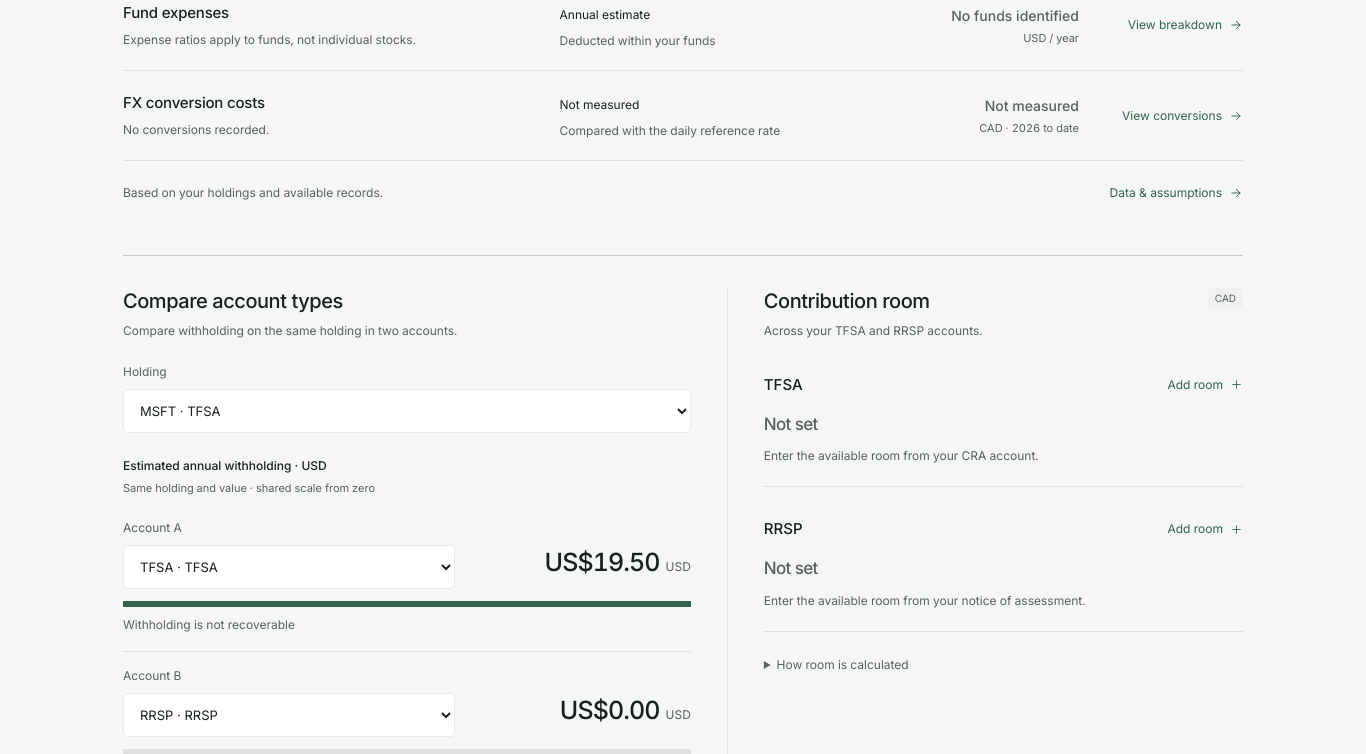
Test: Contribution editing › opens only one contribution editor at a time
The image size is (1366, 754).
(page scrolled)
Click the 1st button "Add room": [1205, 385] box [1167,363,1243,407]
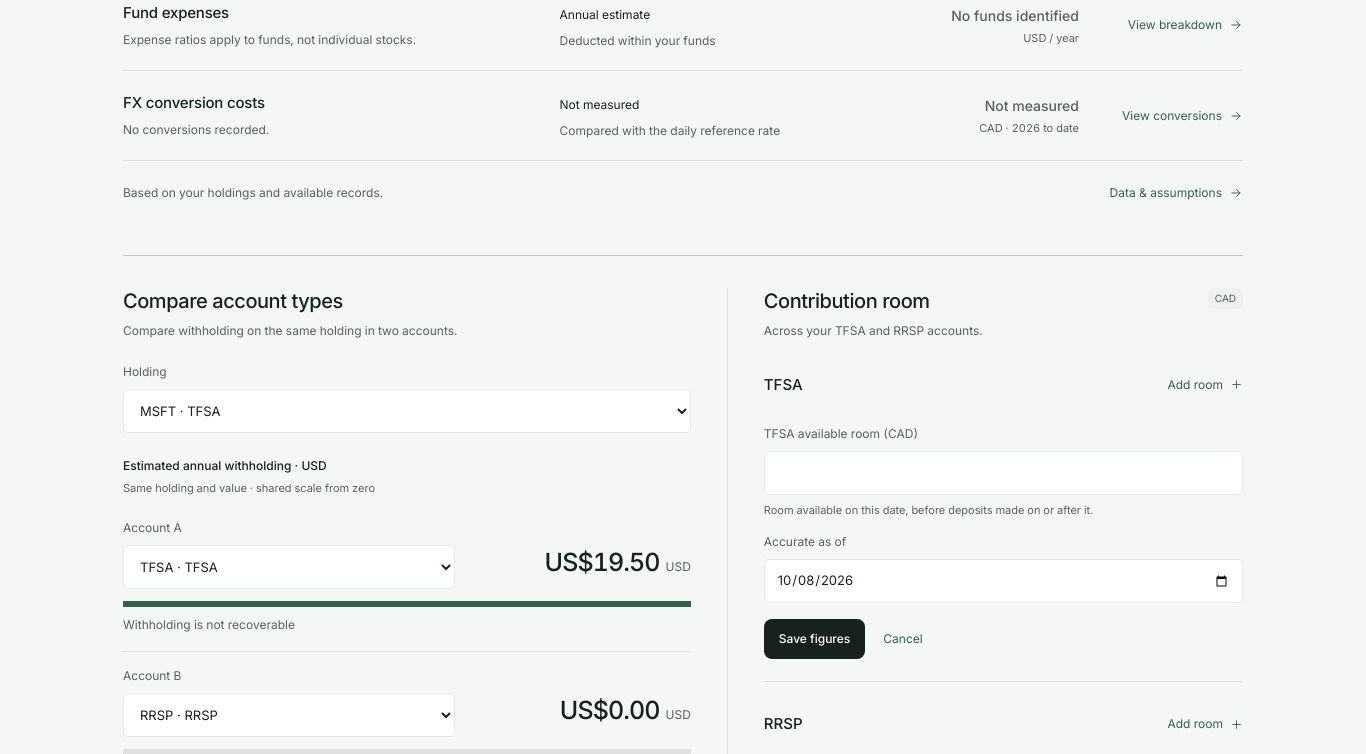
Click the 2nd button "Add room": [1205, 724] box [1167,702,1243,746]
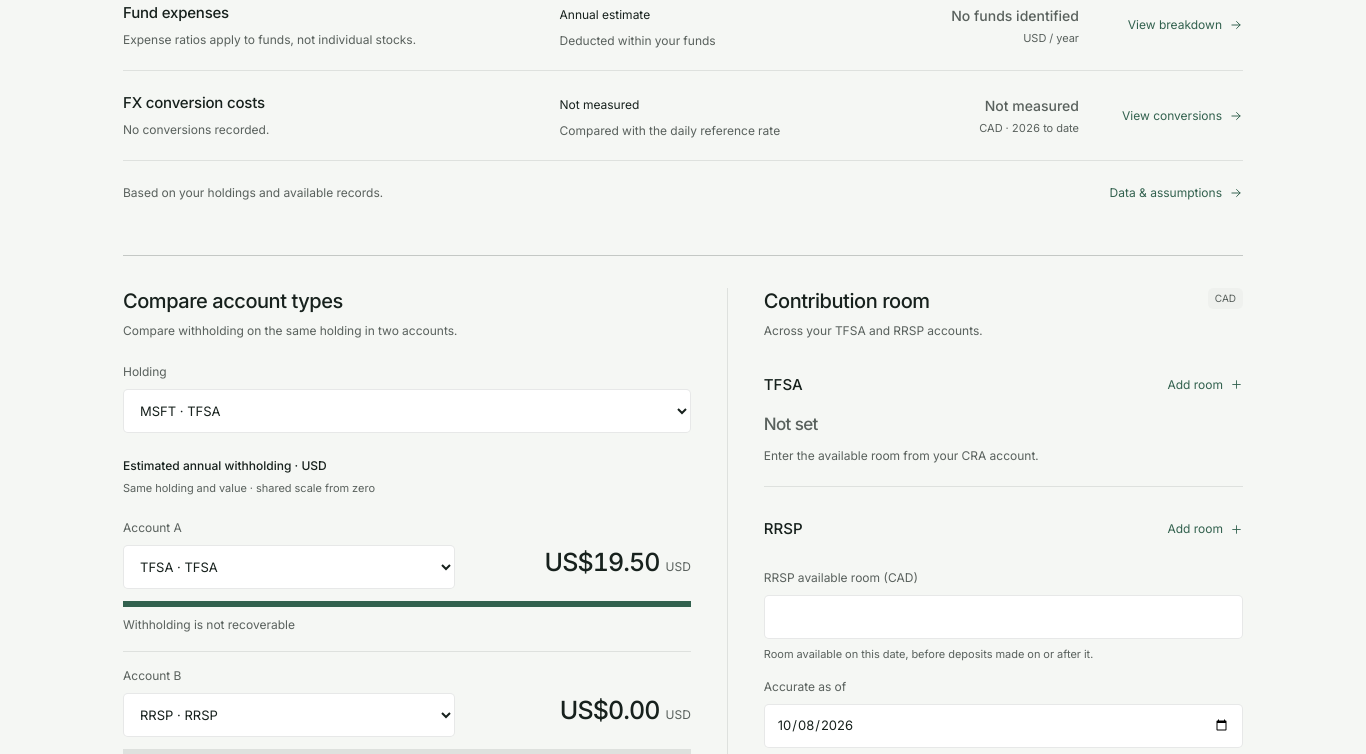
Check: the text labelled "TFSA available room" is gone
